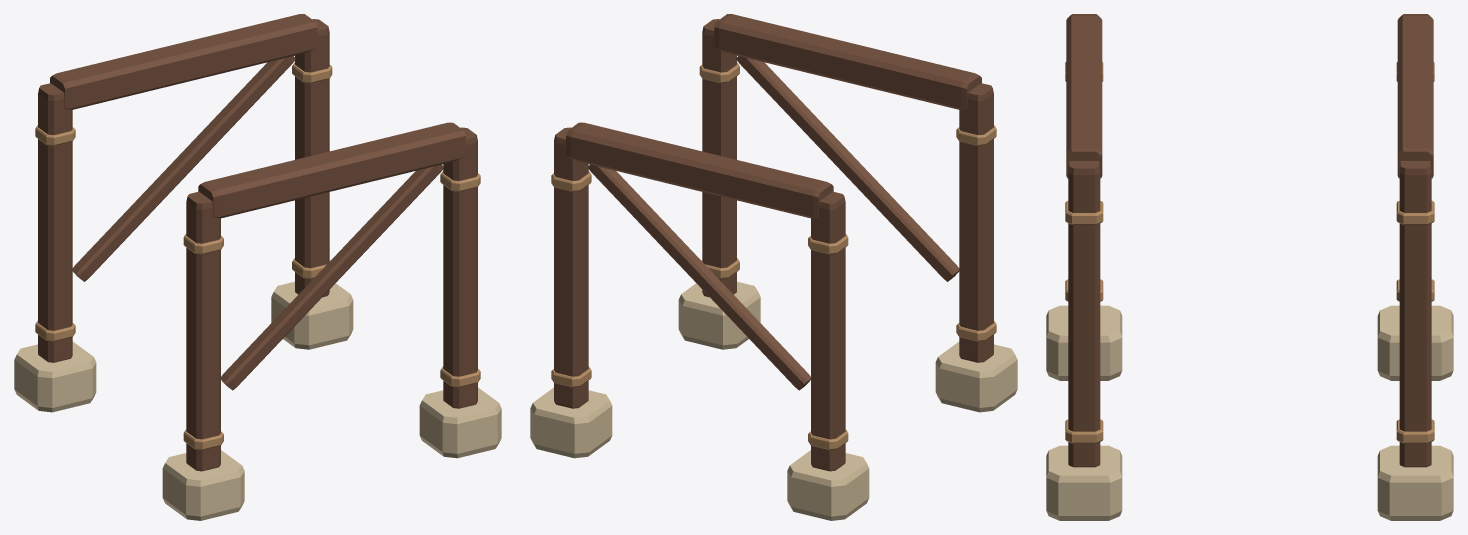
Rendered from support.glb.
3 views of the same model, side by side, from view 1: azimuth 30°, elevation 25°; view 2: azimuth 150°, elevation 25°; view 3: azimuth 270°, elevation 25° (orthographic). The views are drawn at different scales.
Visible parts, largest first — view 1: RimBeam, RimBeam2, Post, Post2, Post4, Post3, CrossBrace, CrossBrace2, StoneFoot, StoneFoot4, StoneFoot2, StoneFoot3; view 2: RimBeam2, RimBeam, Post2, Post, Post3, Post4, CrossBrace2, CrossBrace, StoneFoot2, StoneFoot3, StoneFoot, StoneFoot4; view 3: Post3, Post4, RimBeam, RimBeam2, StoneFoot3, StoneFoot4, StoneFoot, StoneFoot2, RopeJoint6, RopeJoint8, RopeJoint5, RopeJoint7.
Boxes of the visible parts, x1=… form: RimBeam: x1=50, y1=14, x2=317, y2=109; RimBeam2: x1=198, y1=122, x2=465, y2=218; Post: x1=38, y1=83, x2=72, y2=362; Post2: x1=186, y1=191, x2=220, y2=471; Post4: x1=443, y1=127, x2=477, y2=408; Post3: x1=295, y1=19, x2=329, y2=297; CrossBrace: x1=72, y1=56, x2=295, y2=281; CrossBrace2: x1=221, y1=164, x2=444, y2=390; StoneFoot: x1=14, y1=341, x2=96, y2=412; StoneFoot4: x1=419, y1=387, x2=501, y2=458; StoneFoot2: x1=162, y1=450, x2=244, y2=520; StoneFoot3: x1=271, y1=281, x2=353, y2=349; RimBeam2: x1=714, y1=14, x2=981, y2=109; RimBeam: x1=566, y1=122, x2=833, y2=218; Post2: x1=959, y1=83, x2=993, y2=362; Post: x1=811, y1=191, x2=845, y2=471; Post3: x1=554, y1=127, x2=588, y2=408; Post4: x1=702, y1=19, x2=736, y2=297; CrossBrace2: x1=736, y1=56, x2=959, y2=281; CrossBrace: x1=587, y1=164, x2=810, y2=390; StoneFoot2: x1=935, y1=341, x2=1017, y2=412; StoneFoot3: x1=530, y1=387, x2=612, y2=458; StoneFoot: x1=787, y1=450, x2=869, y2=520; StoneFoot4: x1=678, y1=281, x2=760, y2=349; Post3: x1=1399, y1=161, x2=1431, y2=467; Post4: x1=1068, y1=161, x2=1100, y2=467; RimBeam: x1=1397, y1=14, x2=1433, y2=178; RimBeam2: x1=1066, y1=14, x2=1102, y2=178; StoneFoot3: x1=1377, y1=445, x2=1453, y2=520; StoneFoot4: x1=1046, y1=445, x2=1122, y2=520; StoneFoot: x1=1377, y1=305, x2=1453, y2=380; StoneFoot2: x1=1046, y1=305, x2=1122, y2=380; RopeJoint6: x1=1396, y1=419, x2=1434, y2=443; RopeJoint8: x1=1065, y1=419, x2=1103, y2=443; RopeJoint5: x1=1396, y1=201, x2=1434, y2=224; RopeJoint7: x1=1065, y1=201, x2=1103, y2=224.
Bounding box in the file's own units: 2.04 × 1.96 × 2.04.
